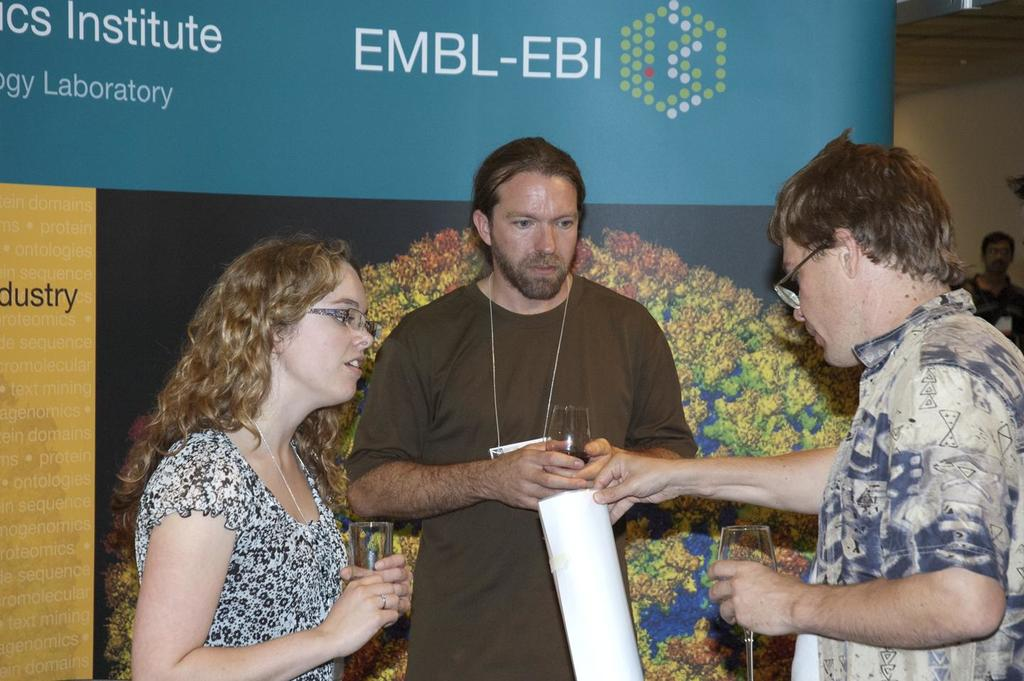Human_hand: (713, 556, 869, 648), (488, 435, 584, 514), (319, 575, 400, 656), (590, 451, 672, 527), (336, 551, 415, 617), (544, 435, 624, 485)
